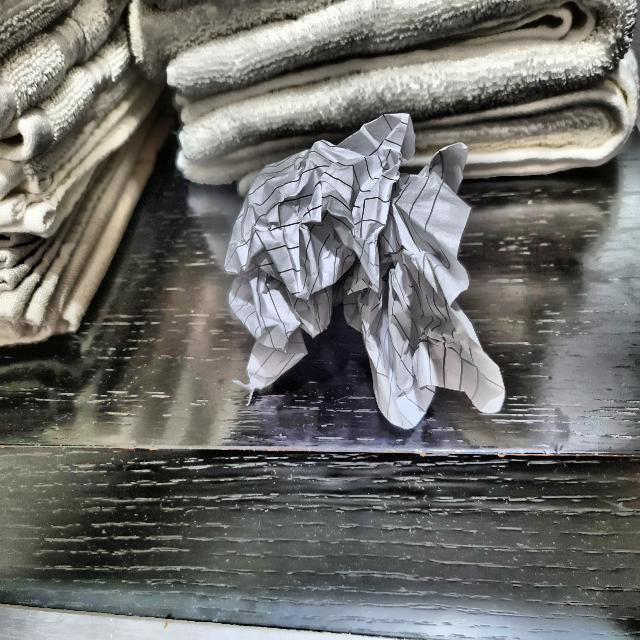Paper: (230, 116, 507, 427)
